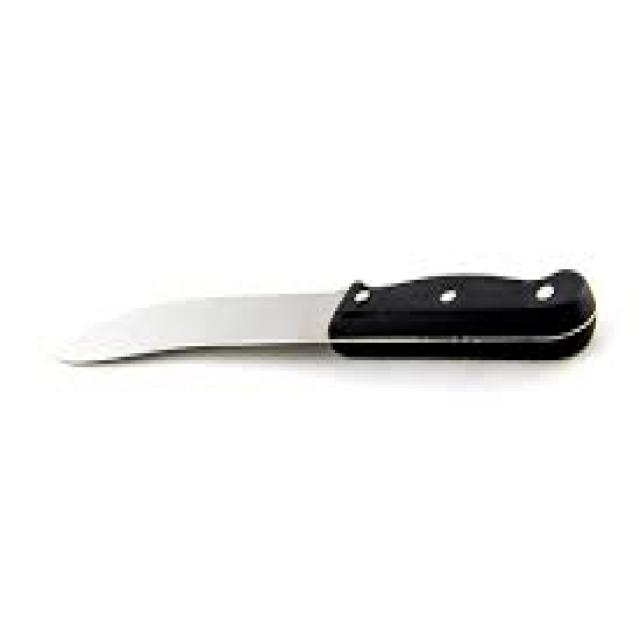Knife: (56, 266, 596, 364)
